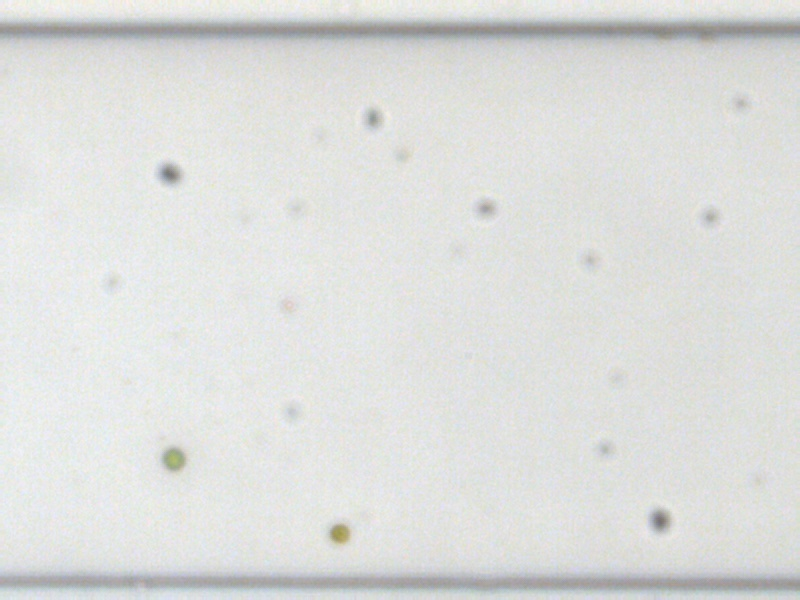Chlorella: (160, 446, 186, 472)
Effrenium: (328, 522, 347, 542)
